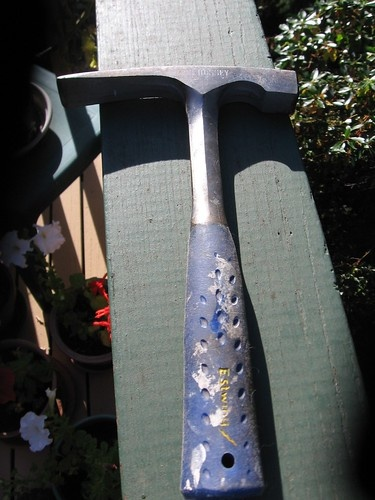hammer: (54, 64, 302, 499)
